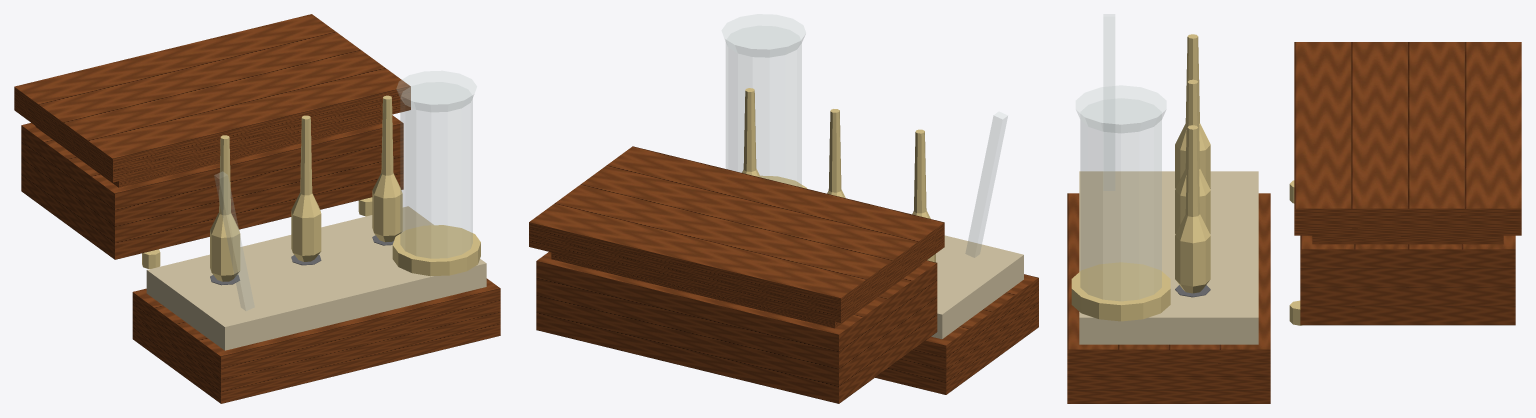
The model's file is distillery-and-bonded-warehouse-hydrometer-set-f946b446__38685.glb.
3 views of the same model, side by side, from view 1: azimuth 30°, elevation 25°; view 2: azimuth 150°, elevation 25°; view 3: azimuth 270°, elevation 25° (orthographic). The views are drawn at different scales.
Visible parts, largest first — view 1: hydrometer-set-oak, hydrometer-set-hessian, hydrometer-set-glass, hydrometer-set-brass, hydrometer-set-iron; view 2: hydrometer-set-oak, hydrometer-set-glass, hydrometer-set-hessian, hydrometer-set-brass; view 3: hydrometer-set-oak, hydrometer-set-hessian, hydrometer-set-glass, hydrometer-set-brass.
Part boxes in pixels (bbox=[...]): hydrometer-set-oak: bbox=[14, 14, 500, 403]; hydrometer-set-hessian: bbox=[146, 206, 486, 350]; hydrometer-set-glass: bbox=[214, 71, 476, 310]; hydrometer-set-brass: bbox=[142, 95, 480, 281]; hydrometer-set-iron: bbox=[210, 235, 393, 285]; hydrometer-set-oak: bbox=[529, 146, 1038, 403]; hydrometer-set-glass: bbox=[722, 14, 1007, 257]; hydrometer-set-hessian: bbox=[931, 235, 1023, 339]; hydrometer-set-brass: bbox=[742, 88, 935, 262]; hydrometer-set-oak: bbox=[1067, 42, 1521, 403]; hydrometer-set-hessian: bbox=[1079, 171, 1258, 344]; hydrometer-set-glass: bbox=[1076, 14, 1166, 300]; hydrometer-set-brass: bbox=[1071, 34, 1301, 325].
Size of the model in its own units: 0.66 by 0.51 by 0.76.
5 materials, 1 textured.
